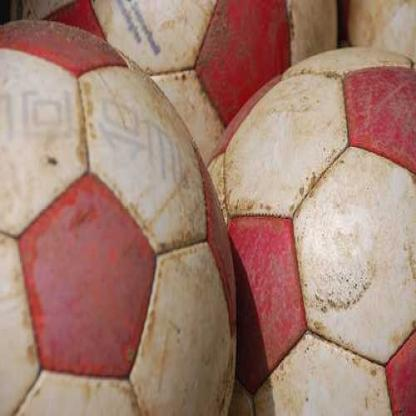ball: (0, 21, 237, 416), (219, 50, 416, 416)
